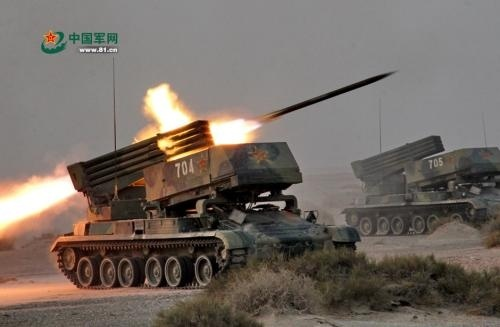fire: (0, 162, 78, 242), (138, 81, 193, 137), (207, 116, 258, 145)
